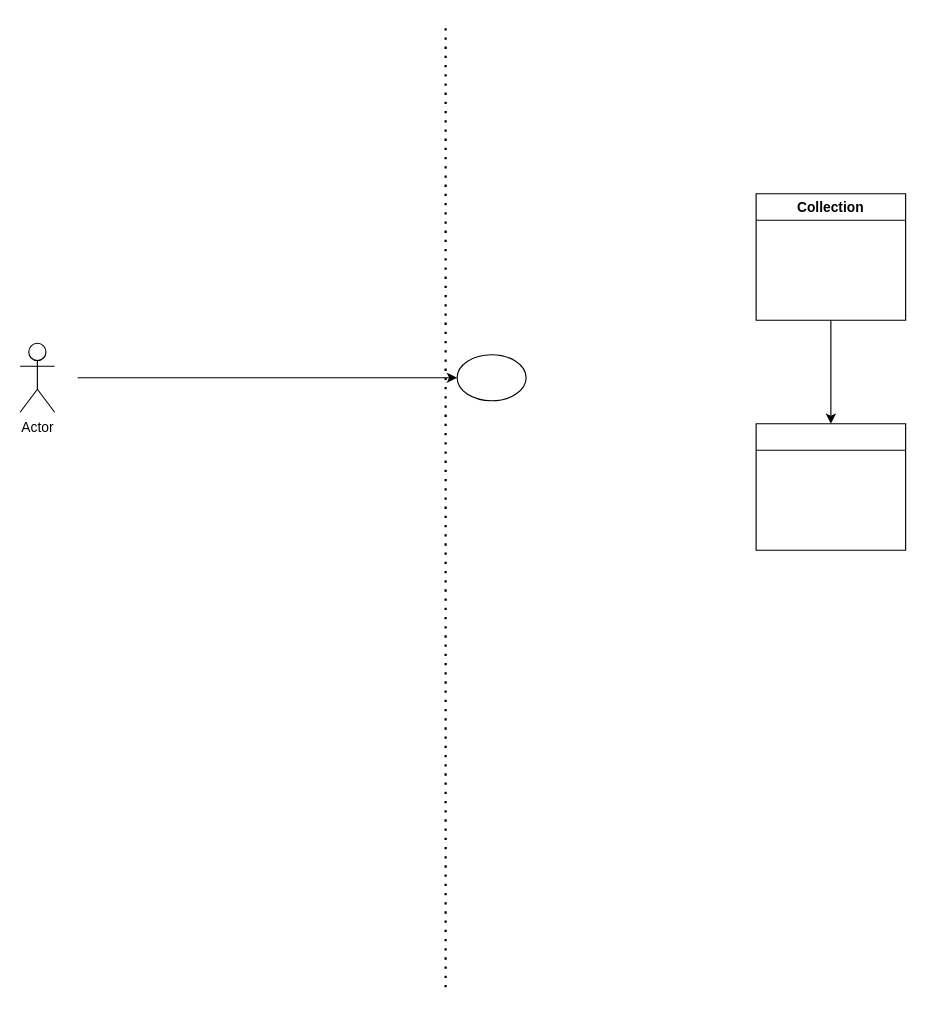
Some shapes in this 926 by 1009 pixel diagram are drawn without their labels. The shapes that lost their labels are listed below. From the top down, each one's centre as x and y in pixels, then its label:
At (x=491, y=377): "Ingress".
At (x=830, y=486): "Item".
